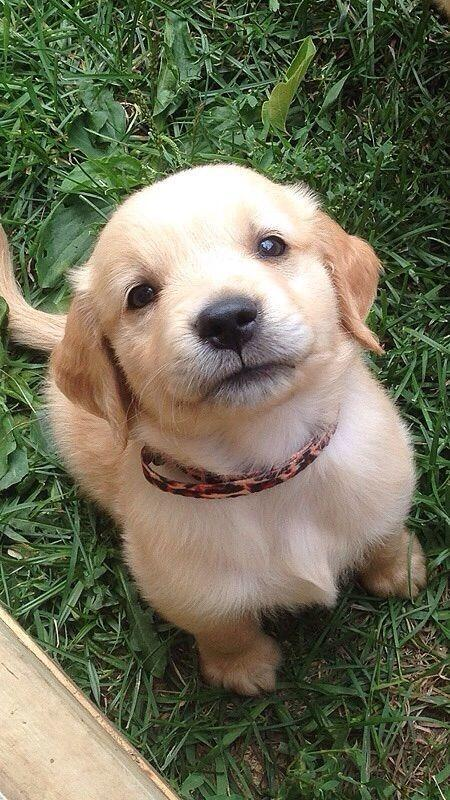puppy-dog: (0, 163, 430, 698)
